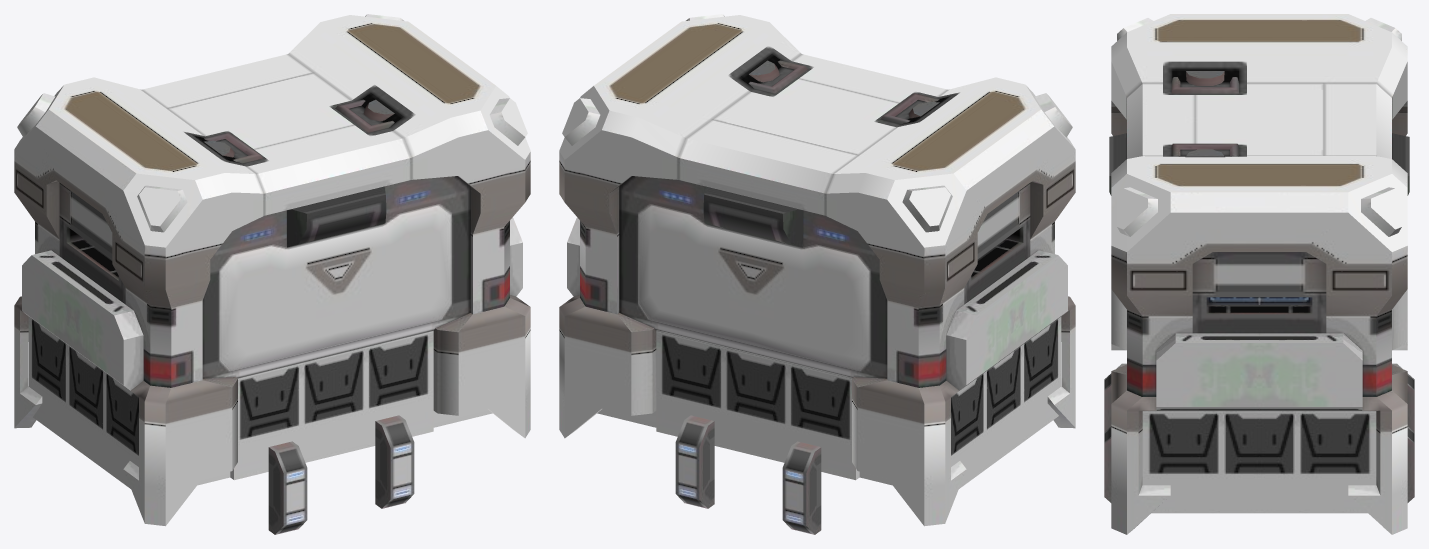
The picture shows the model from 3 angles, left to right: view 1: azimuth 30°, elevation 25°; view 2: azimuth 150°, elevation 25°; view 3: azimuth 270°, elevation 25°; orthographic projection.
Visible parts, largest first — view 1: storage-2; view 2: storage-2; view 3: storage-2.
Boxes of the visible parts, x1,y1,x2,y2 form: storage-2: (14, 14, 530, 534); storage-2: (559, 14, 1075, 534); storage-2: (1104, 14, 1414, 534).
Size of the model in its own units: 6 by 5.34 by 3.98.
1 material, 1 textured.
